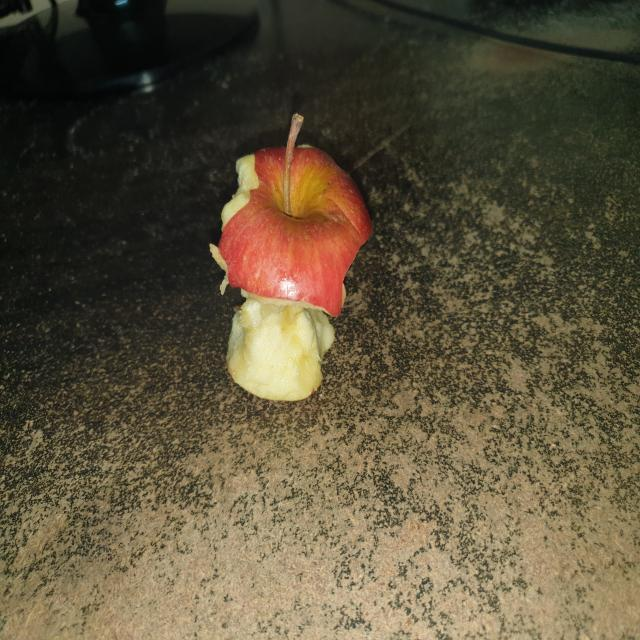apple: (205, 107, 383, 403)
